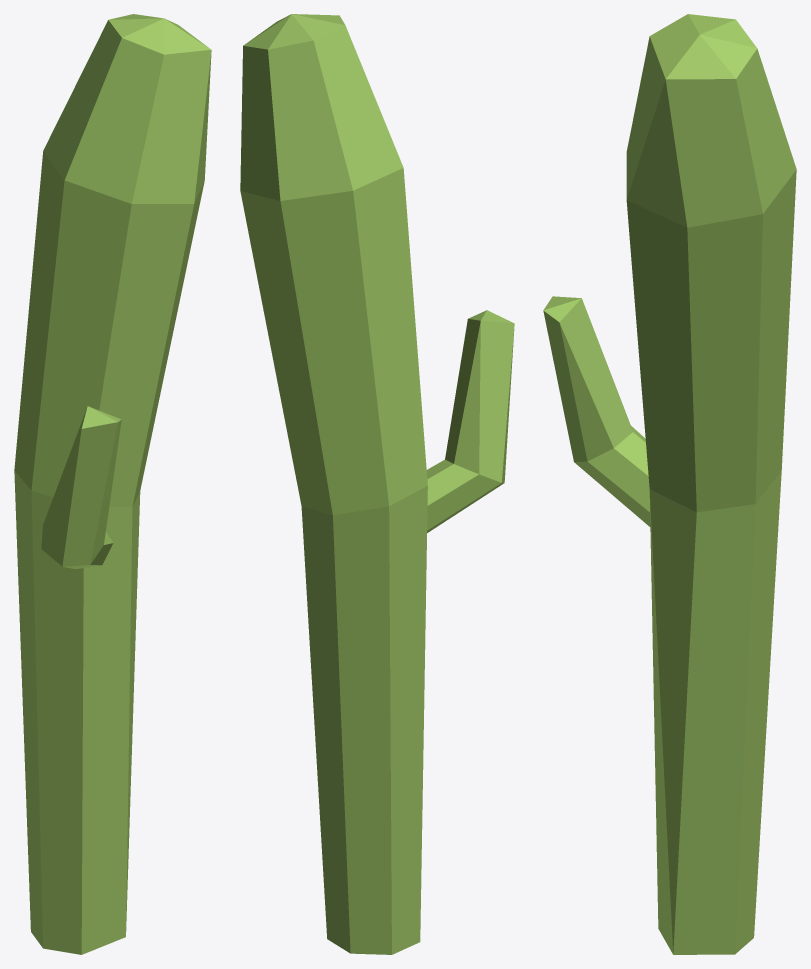
The model's file is Cactus_l_04.fbx.
3 views of the same model, side by side, from view 1: azimuth 30°, elevation 25°; view 2: azimuth 150°, elevation 25°; view 3: azimuth 270°, elevation 25° (orthographic). The views are drawn at different scales.
Visible parts, largest first — view 1: Cactus_l_04; view 2: Cactus_l_04; view 3: Cactus_l_04.
Boxes of the visible parts, x1,y1,x2,y2 form: Cactus_l_04: (14, 14, 211, 954); Cactus_l_04: (240, 14, 514, 954); Cactus_l_04: (543, 14, 796, 954).
Size of the model in its own units: 86.57 by 370 by 89.72.
